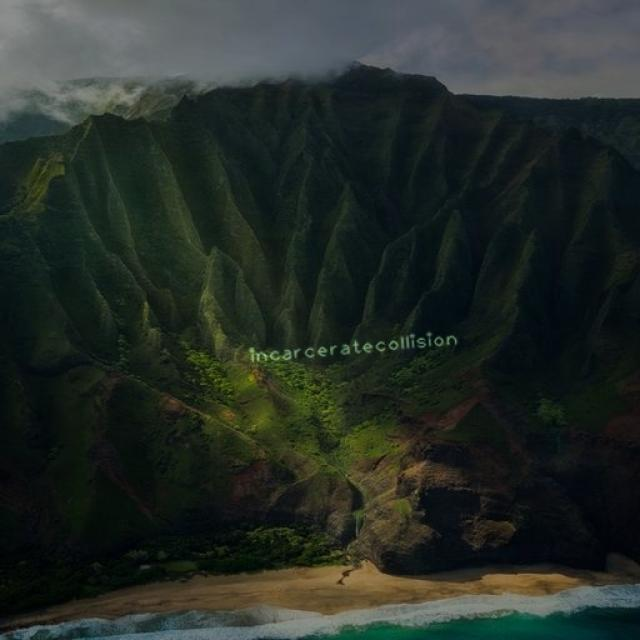watermark: (245, 330, 458, 365)
